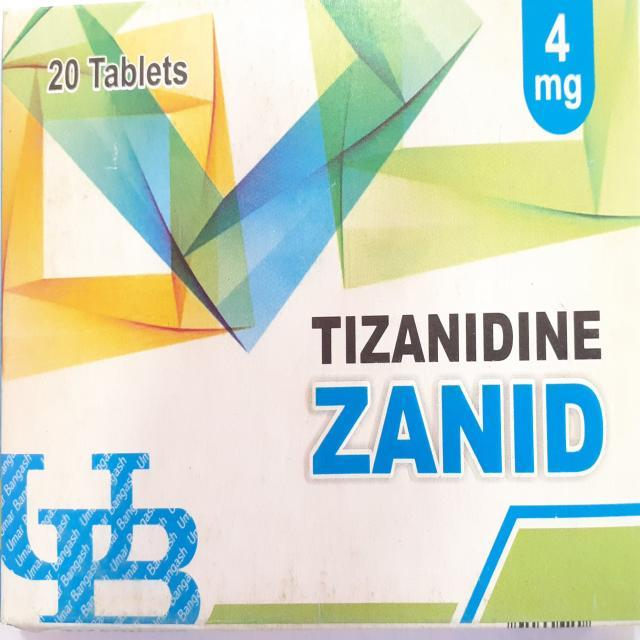drug-name: (299, 376, 606, 478)
